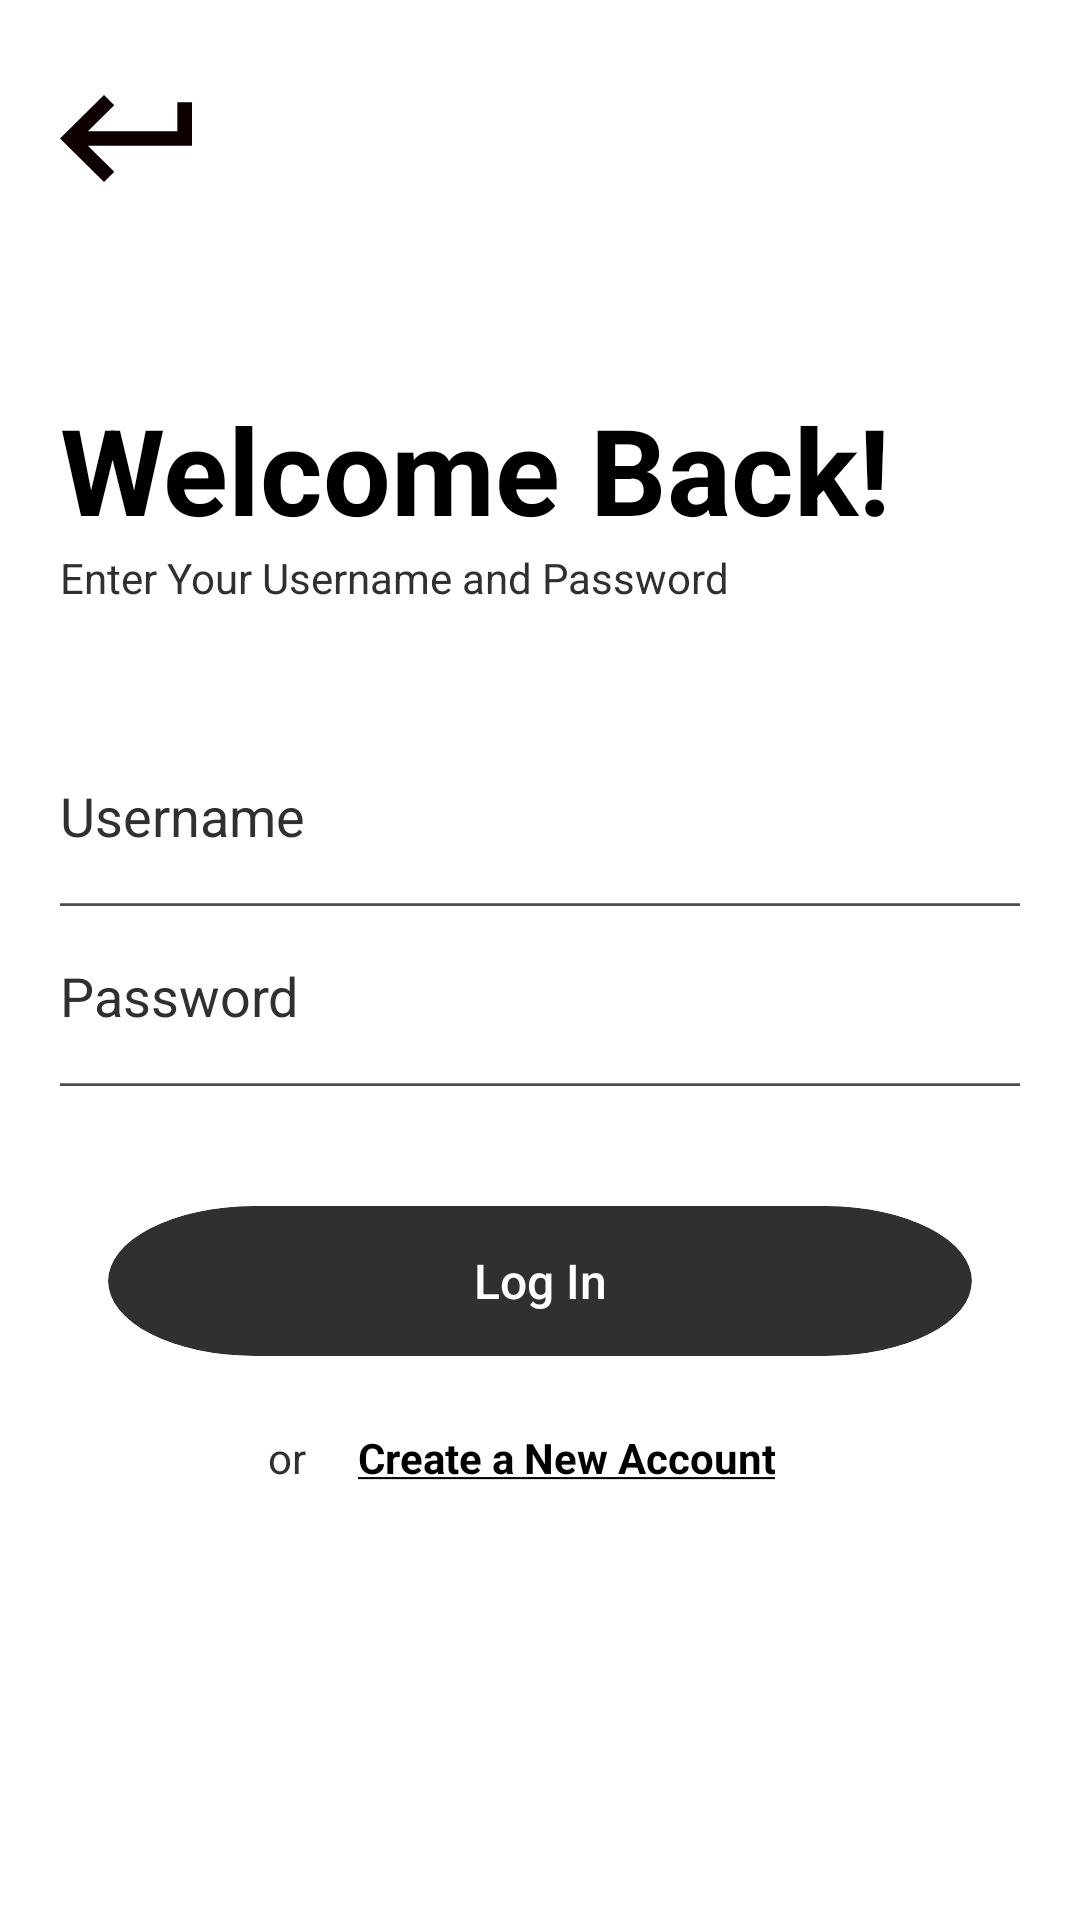

Icon click points for this 1080x1920 phone screenshot, format point (x, y):
Return to main window: point (126, 138)
